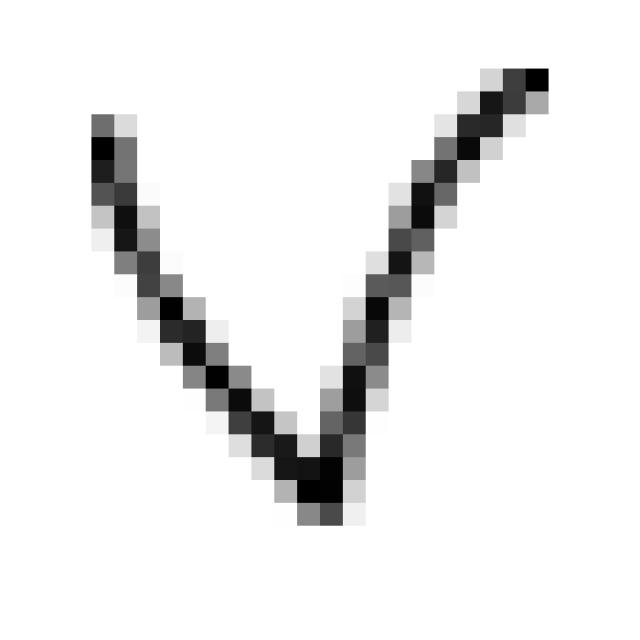7 -seven-: (66, 55, 565, 538)
